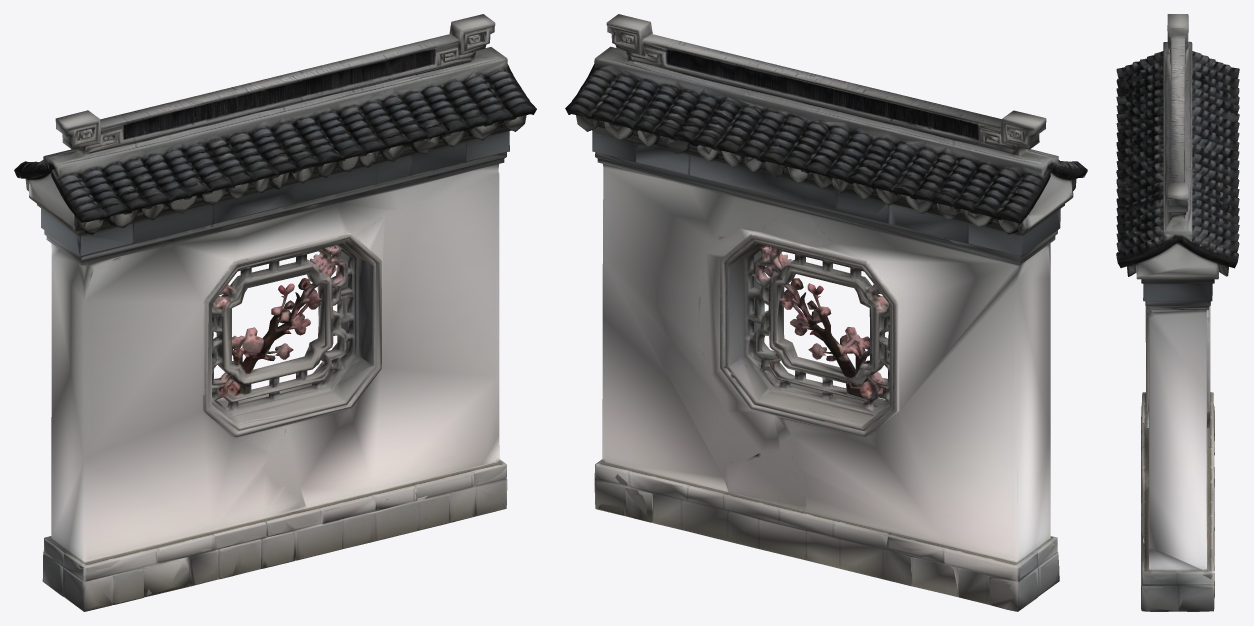
The model's file is wallWindow.glb.
3 views of the same model, side by side, from view 1: azimuth 30°, elevation 25°; view 2: azimuth 150°, elevation 25°; view 3: azimuth 270°, elevation 25° (orthographic). The views are drawn at different scales.
Parts seen in each view (by area): view 1: node_0; view 2: node_0; view 3: node_0.
Part boxes in pixels (box(x1,y1,x2,y2)): node_0: box(14, 14, 536, 611); node_0: box(565, 14, 1087, 611); node_0: box(1116, 14, 1239, 611).
Bounding box in the file's own units: 2.8 × 2.8 × 0.7511.
Materials: 1 (1 with a texture image).
